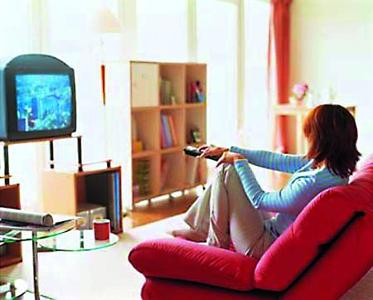person: (167, 104, 360, 259)
